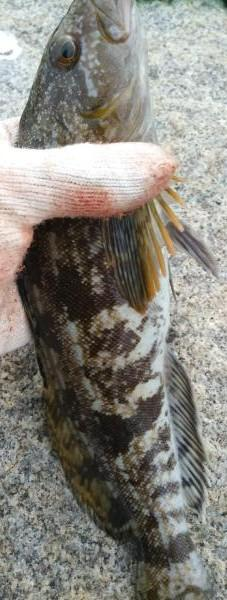fish: (16, 0, 216, 599)
